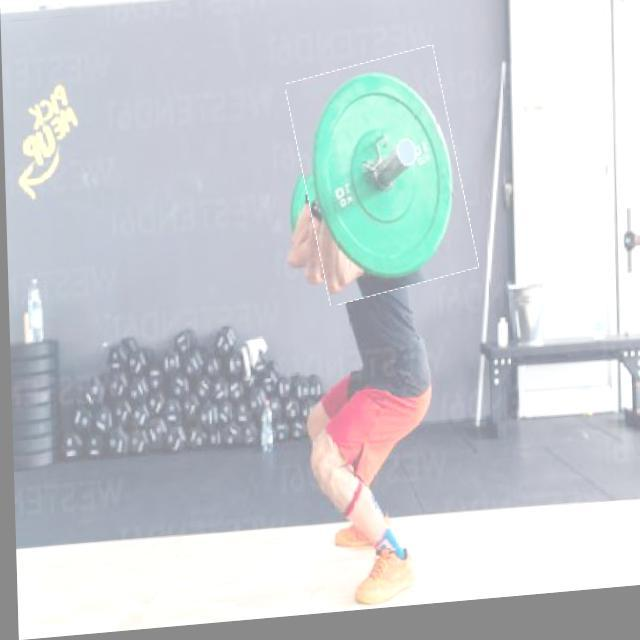barbell: (294, 57, 469, 309)
